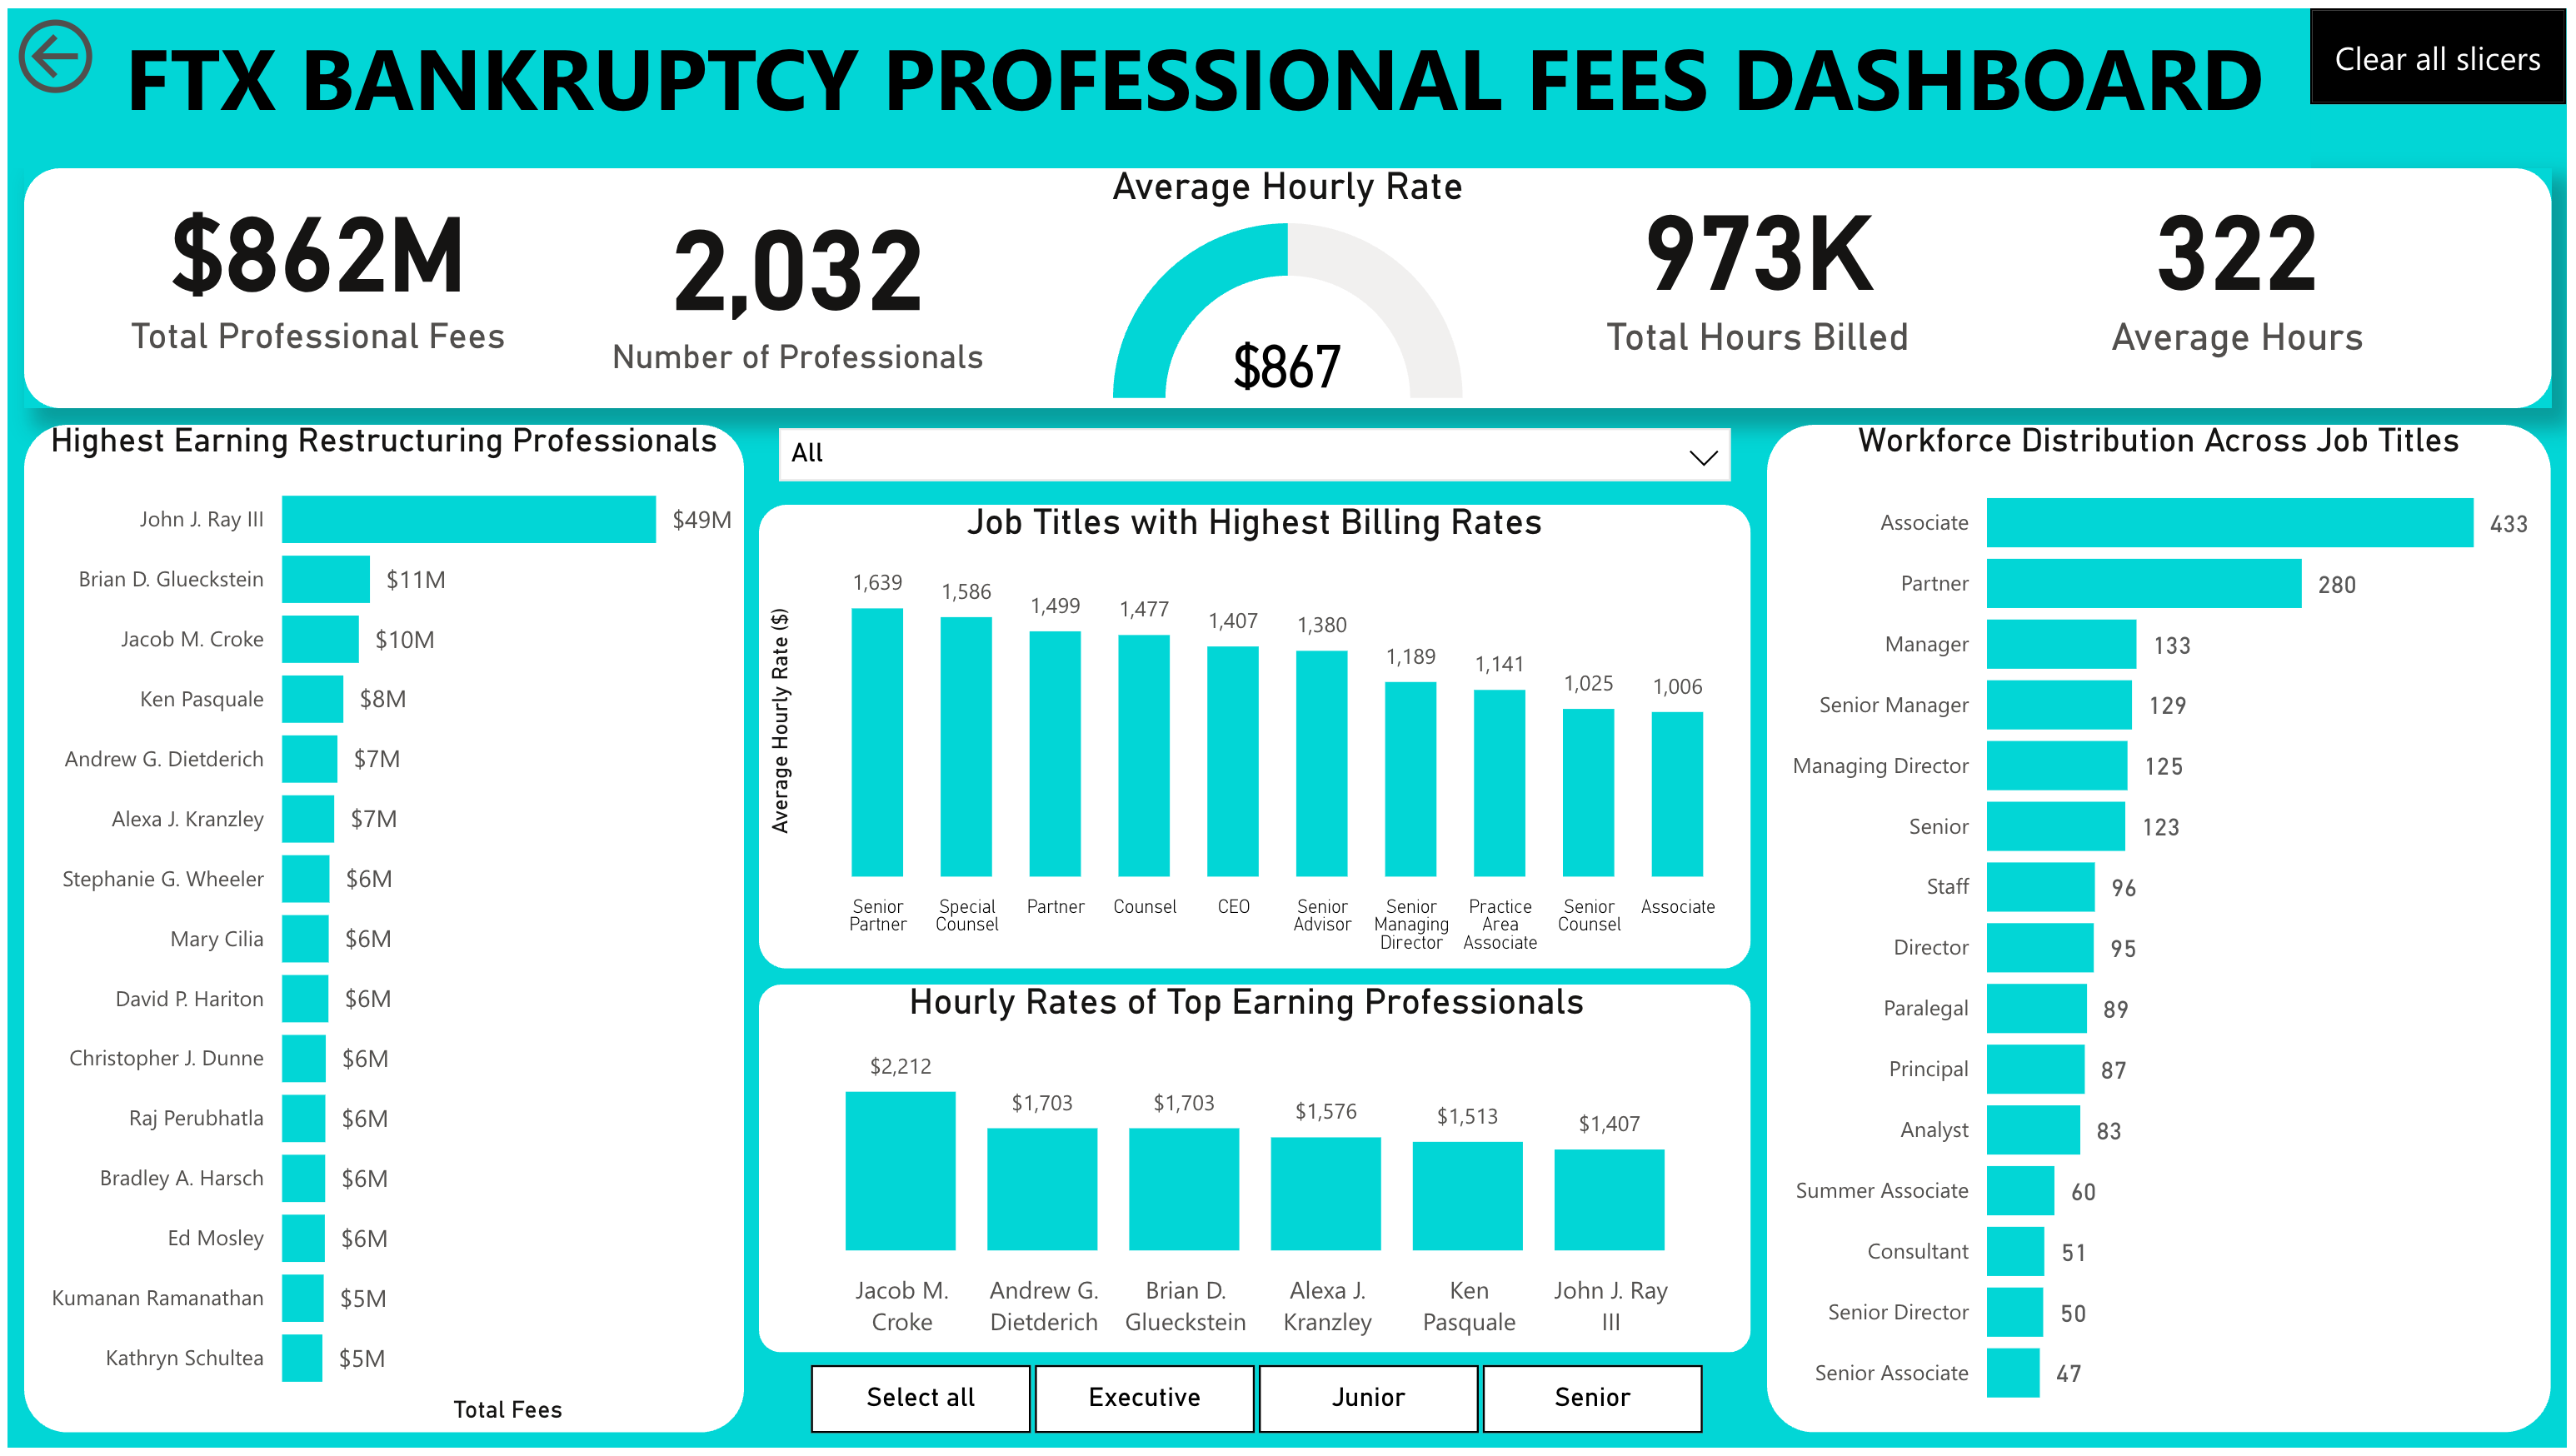

What the dashboard file says about the page in this screenshot:
{"tool":"powerbi","page":{"name":"Professionals","canvas":[1280,720],"ordinal":1},"visuals":[{"type":"shape","box":[8,80,1264,120],"z":0},{"type":"cardVisual","fields":{"Data":["Count(Main1.Professional)"]},"box":[283.7,86.9,224,112],"z":1000},{"type":"shape","box":[8,208,360,504],"z":2000},{"type":"gauge","fields":{"Y":["Avg(Main1.Rate)"]},"box":[528,80,224,120],"z":3000},{"type":"cardVisual","fields":{"Data":["Sum(Main1.Fees)"]},"box":[43.7,86.9,224,112],"z":4000},{"type":"shape","box":[376,248,496,232],"z":5000},{"type":"shape","box":[376,488,496,184],"z":6000},{"type":"cardVisual","fields":{"Data":["Sum(Main1.Hours)"]},"box":[763.7,86.9,224,112],"z":7000},{"type":"shape","box":[880,208,392,504],"z":8000},{"type":"cardVisual","fields":{"Data":["Avg(Main1.Hours)"]},"box":[1003.7,86.9,224,112],"z":9000},{"type":"barChart","title":"Workforce across job titles","fields":{"Y":["Count(Main1.Professional)"],"Category":["main_title_short.Title"]},"box":[880,208,392,504],"z":10000},{"type":"textbox","box":[0,0,1152,80],"z":11000},{"type":"actionButton","box":[0,0,64,48],"z":12000},{"type":"barChart","title":"Top earning restructuring professionals ","fields":{"Category":["Main1.Professional"],"Y":["Sum(Main1.Fees)"]},"box":[8,208,360,504],"z":13000},{"type":"clusteredColumnChart","title":"Job titles where professionals charge the highest rate","fields":{"Category":["main_title_short.Title"],"Y":["Avg(Main1.Rate)"]},"box":[376,248,496,232],"z":14000},{"type":"slicer","fields":{"Values":["title_unique.Advisor"]},"box":[376,200,496,48],"z":15000},{"type":"actionButton","box":[1152,0,128,48],"z":16000},{"type":"clusteredColumnChart","title":"How top earning professionals charge per hour","fields":{"Category":["main_avg_rate.Professional"],"Y":["Avg(main_avg_rate.Average Rate)"]},"box":[376,488,488,184],"z":17000},{"type":"slicer","fields":{"Values":["main_title_short.Level"]},"box":[376,672,496,48],"z":18000}]}

Visuals, with their boxes in screenshot pixels (x1, y1, x2, y2), scaled from the page's 1280x720 canvas onto the 2576x1456 screenshot:
shape: Rect(16, 162, 2560, 405)
cardVisual - Count(Main1.Professional): Rect(571, 176, 1021, 402)
shape: Rect(16, 421, 741, 1440)
gauge - Avg(Main1.Rate): Rect(1062, 162, 1514, 405)
cardVisual - Sum(Main1.Fees): Rect(88, 176, 539, 402)
shape: Rect(756, 501, 1755, 970)
shape: Rect(756, 987, 1755, 1359)
cardVisual - Sum(Main1.Hours): Rect(1537, 176, 1988, 402)
shape: Rect(1771, 421, 2560, 1440)
cardVisual - Avg(Main1.Hours): Rect(2020, 176, 2471, 402)
"Workforce across job titles" barChart: Rect(1771, 421, 2560, 1440)
textbox: Rect(0, 0, 2319, 162)
actionButton: Rect(0, 0, 129, 97)
"Top earning restructuring professionals " barChart: Rect(16, 421, 741, 1440)
"Job titles where professionals charge the highest rate" clusteredColumnChart: Rect(756, 501, 1755, 970)
slicer - title_unique.Advisor: Rect(756, 405, 1755, 501)
actionButton: Rect(2319, 0, 2575, 97)
"How top earning professionals charge per hour" clusteredColumnChart: Rect(756, 987, 1739, 1359)
slicer - main_title_short.Level: Rect(756, 1359, 1755, 1455)
